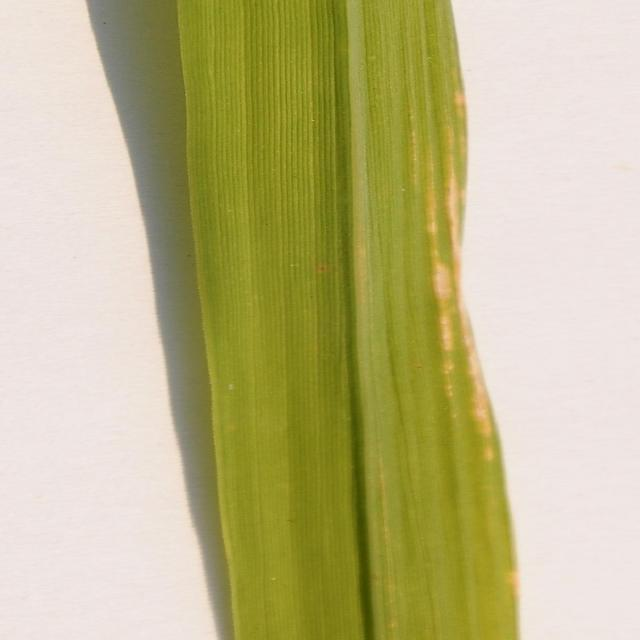leaf blight: (403, 104, 499, 460)
